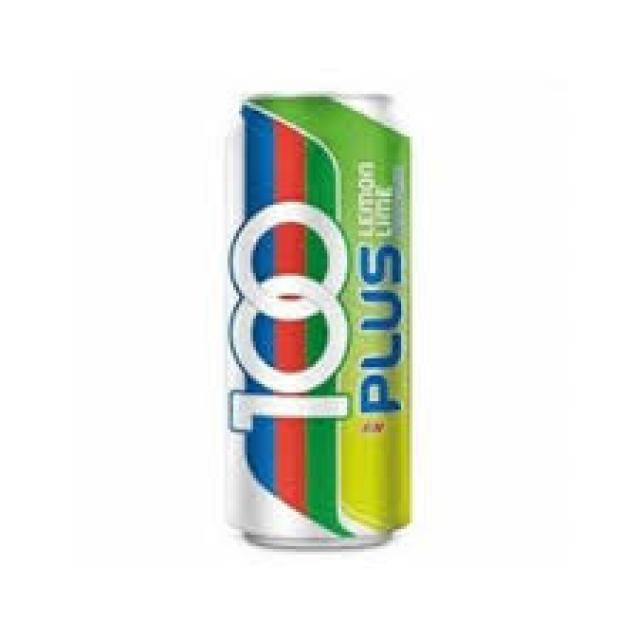Cans: (216, 74, 427, 557)
